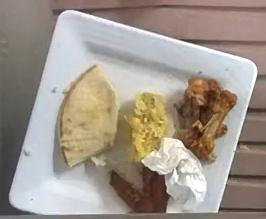naan: (60, 65, 119, 167)
unknown: (109, 162, 169, 212)
